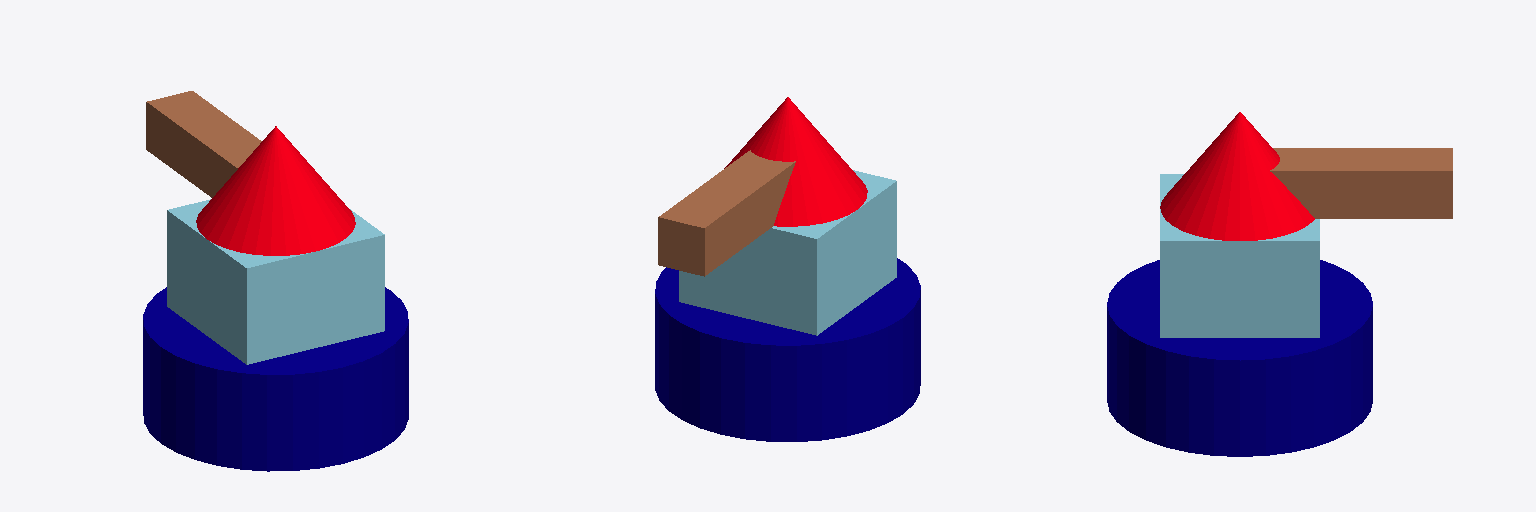
3 renders of one model, left to right at view 1: azimuth 30°, elevation 25°; view 2: azimuth 150°, elevation 25°; view 3: azimuth 270°, elevation 25°, orthographic.
Parts seen in each view (by area): view 1: 圓柱體.001, 立方體.003, 圓錐體.001, 立方體.004; view 2: 圓柱體.001, 立方體.003, 立方體.004, 圓錐體.001; view 3: 圓柱體.001, 立方體.003, 立方體.004, 圓錐體.001.
Part boxes in pixels (left/top/right/bottom): 圓柱體.001: left=143, top=287, right=408, bottom=471; 立方體.003: left=167, top=199, right=384, bottom=364; 圓錐體.001: left=196, top=126, right=355, bottom=255; 立方體.004: left=146, top=91, right=261, bottom=197; 圓柱體.001: left=655, top=258, right=920, bottom=441; 立方體.003: left=679, top=170, right=896, bottom=335; 立方體.004: left=658, top=150, right=795, bottom=276; 圓錐體.001: left=724, top=97, right=867, bottom=226; 圓柱體.001: left=1107, top=260, right=1372, bottom=456; 立方體.003: left=1160, top=174, right=1319, bottom=337; 立方體.004: left=1270, top=148, right=1452, bottom=218; 圓錐體.001: left=1160, top=112, right=1314, bottom=240.
Bounding box in the file's own units: 5 × 6 × 6.5.
Materials: 4 (4 with a texture image).